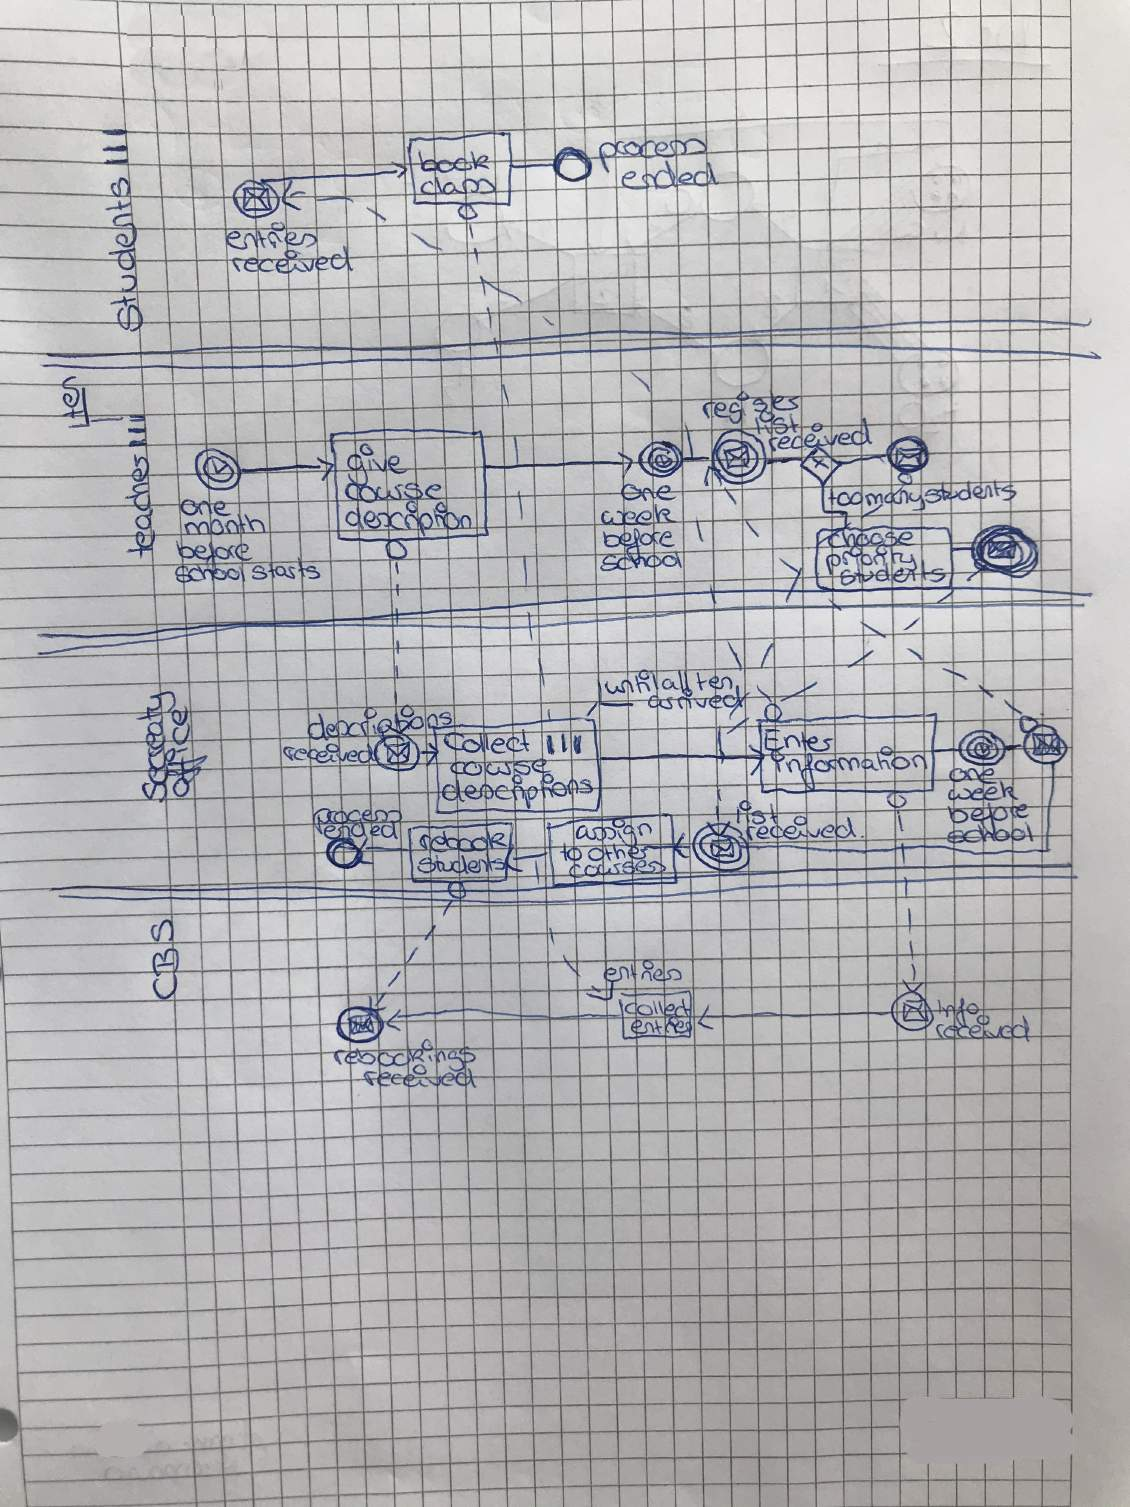CBS: (145, 917, 178, 1002)
Collect: (442, 728, 529, 758)
Enter: (760, 725, 834, 751)
III: (95, 123, 134, 171), (542, 727, 587, 759), (120, 408, 151, 448)
Info: (930, 993, 983, 1024)
all: (658, 664, 693, 691)
arrived: (642, 688, 743, 708)
assign: (575, 821, 653, 845)
before: (947, 801, 1029, 827), (181, 541, 254, 565), (607, 529, 680, 551)
book: (418, 147, 494, 175)
choose: (828, 528, 916, 550)
class: (421, 178, 499, 202)
collect: (623, 996, 698, 1017)
course: (339, 481, 448, 505), (448, 756, 550, 778)
courses: (568, 858, 666, 880)
description: (345, 506, 477, 536)
descriptions: (311, 706, 458, 743), (440, 777, 593, 809)
ended: (619, 161, 718, 192), (323, 819, 401, 839)
entries: (601, 962, 682, 992), (228, 223, 319, 249), (623, 1021, 694, 1036)
give: (346, 447, 406, 481)
information: (767, 747, 931, 781)
list: (731, 798, 780, 827), (749, 414, 800, 436)
many: (864, 486, 924, 509)
month: (182, 516, 264, 535)
office: (170, 708, 206, 800)
one: (618, 477, 675, 505), (176, 496, 230, 517), (952, 764, 1000, 782)
other: (587, 839, 654, 861)
priority: (828, 550, 924, 573)
process: (589, 133, 707, 165), (314, 806, 406, 827)
rebook: (412, 831, 512, 854)
rebookings: (333, 1042, 476, 1066)
received: (742, 819, 862, 851), (230, 249, 354, 279), (766, 423, 878, 451), (935, 1012, 1033, 1044), (364, 1064, 481, 1090), (281, 739, 375, 769)
register: (696, 387, 797, 416)
school: (951, 822, 1040, 849), (177, 563, 250, 589), (604, 551, 683, 574)
secretary: (136, 691, 171, 797)
starts: (254, 559, 321, 583)
students: (100, 180, 144, 333), (842, 563, 950, 590), (927, 478, 1016, 507), (422, 853, 506, 879)
teachers: (122, 452, 155, 562)
ten: (42, 376, 94, 421), (694, 667, 737, 688)
to: (556, 844, 588, 867)
too: (823, 487, 867, 511)
until: (600, 670, 662, 692)
week: (598, 501, 675, 531), (945, 782, 1018, 804)
